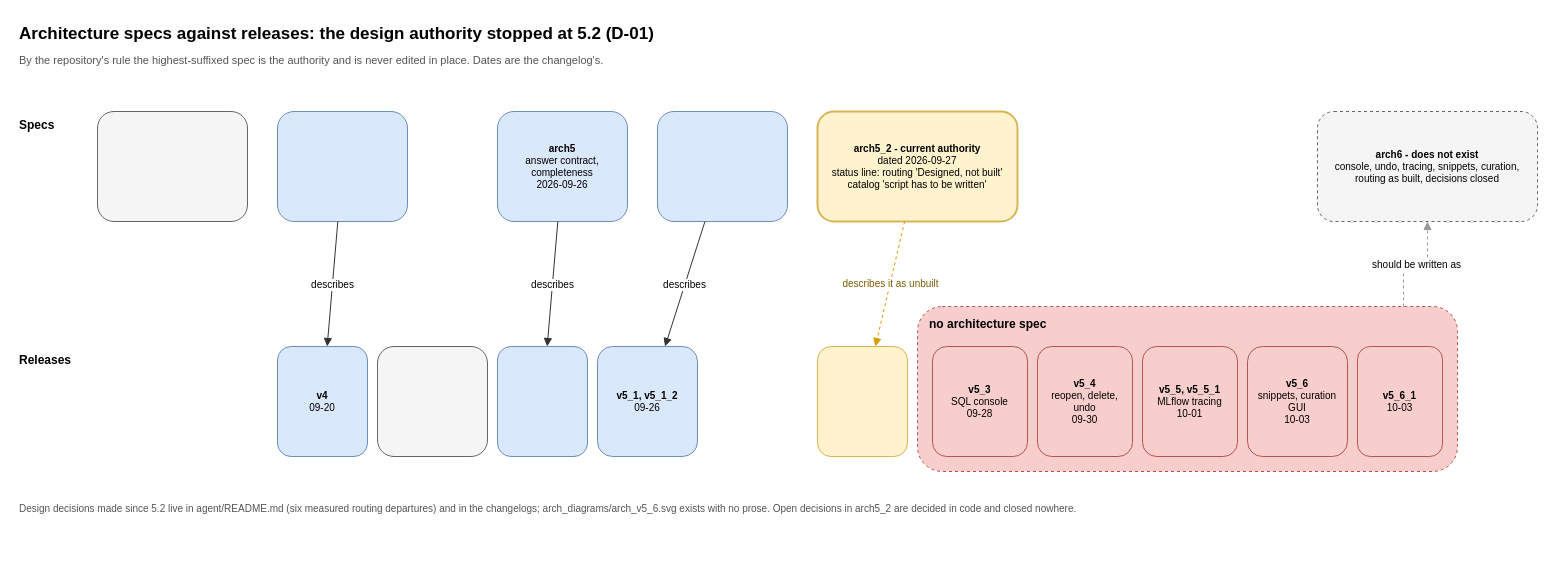
Some shapes in this 1555 by 573 pixel diagram are drawn without their labels. Here are the shapes that lost their labels. From the top down, the centre of each, then its label:
At point (172, 166): "arch1 - arch3 design iterations 2026-09-20".
At point (342, 166): "arch4 multi-agent, four stages 2026-09-20".
At point (722, 166): "arch5_1 human review, fix stores 2026-09-26".
At point (432, 401): "v4_1 … v4_5 09-21 … 09-25 API, GUI, feedback, desktop".
At point (542, 401): "v5 09-26".
At point (862, 401): "v5_2 routing 09-28".
